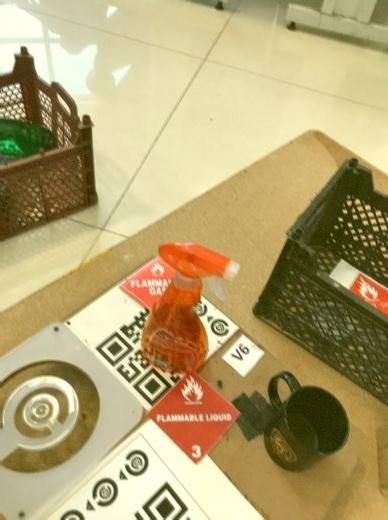flammable: (145, 372, 241, 466), (119, 258, 184, 311), (350, 276, 388, 324)
